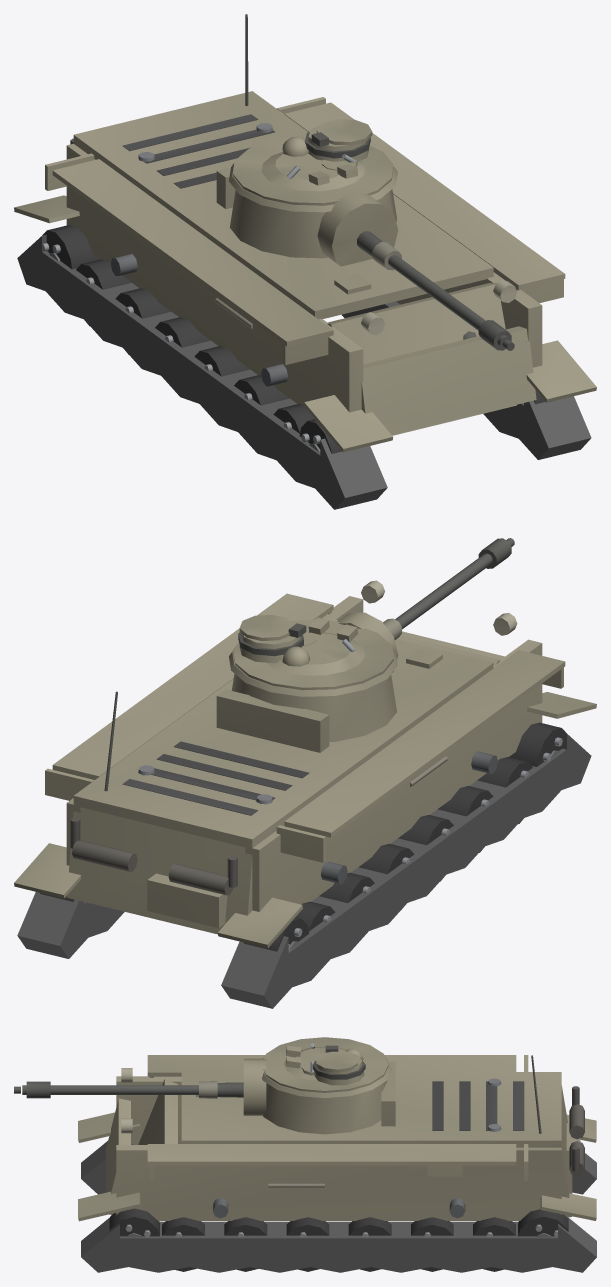
Rendered from chiri.glb.
3 views of the same model, one above another, from view 1: azimuth 30°, elevation 25°; view 2: azimuth 150°, elevation 25°; view 3: azimuth 270°, elevation 25° (orthographic). The views are drawn at different scales.
Visible parts, largest first — view 1: hullSide, tracks, hullTop, lowerPlate, turretRoof, glacis, turretFront, mantlet, barrel, wheel7, turretSide, wheel3 (+6 smaller); view 2: hullSide, tracks, hullTop, hullRear, turretRoof, turretRear, turretFront, barrel, wheel6, turretSide, glacis, wheel4 (+7 smaller); view 3: hullSide, tracks, hullTop, turretRoof, turretFront, barrel, hullRear, glacis, mantlet, lowerPlate, wheel14, wheel15 (+8 smaller).
Part boxes in pixels (x1,y1,x2,y2): hullSide: (45, 97, 565, 412); tracks: (14, 195, 596, 509); hullTop: (73, 91, 493, 319); lowerPlate: (361, 326, 536, 434); turretRoof: (233, 119, 393, 205); glacis: (327, 274, 516, 435); turretFront: (230, 189, 396, 258); mantlet: (317, 193, 398, 266); barrel: (357, 231, 514, 350); wheel7: (42, 225, 99, 269); turretSide: (229, 163, 397, 212); wheel3: (194, 346, 249, 376); hullSide: (45, 580, 565, 911); tracks: (14, 692, 596, 1008); hullTop: (73, 619, 493, 848); hullRear: (67, 691, 253, 934); turretRoof: (233, 614, 393, 690); turretRear: (216, 689, 329, 752); turretFront: (231, 673, 396, 741); barrel: (383, 538, 514, 640); wheel6: (509, 722, 566, 766); turretSide: (229, 647, 397, 696); glacis: (330, 618, 499, 668); wheel4: (437, 786, 493, 852); hullSide: (116, 1055, 561, 1220); tracks: (78, 1112, 596, 1272); hullTop: (181, 1072, 561, 1147); turretRoof: (263, 1037, 388, 1092); turretFront: (263, 1080, 387, 1134); barrel: (14, 1081, 243, 1098); hullRear: (531, 1055, 584, 1217); glacis: (131, 1079, 198, 1144); mantlet: (243, 1058, 266, 1115); lowerPlate: (106, 1098, 130, 1214); wheel14: (109, 1208, 159, 1237); wheel15: (518, 1209, 568, 1237).
Bounding box in the file's own units: 3.58 × 3.07 × 8.25.
